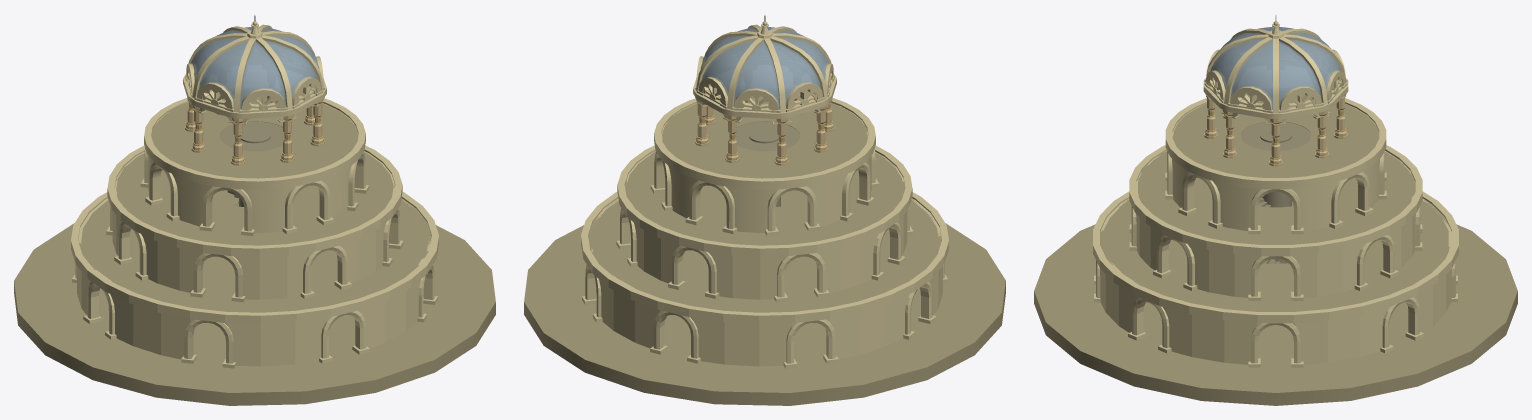
Rendered from Blockout_HubTemple_resize.fbx.
3 renders of one model, left to right at view 1: azimuth 30°, elevation 25°; view 2: azimuth 150°, elevation 25°; view 3: azimuth 270°, elevation 25°, orthographic.
Parts seen in each view (by area): view 1: F3, Ground, F1, F2, StairDisk; view 2: F3, Ground, F1, F2, StairDisk; view 3: F3, Ground, F1, F2, StairDisk.
Boxes of the visible parts, x1,y1,x2,y2 form: F3: (140, 15, 369, 236); Ground: (14, 223, 495, 405); F1: (71, 190, 438, 368); F2: (106, 145, 403, 302); StairDisk: (219, 121, 284, 151); F3: (650, 15, 879, 236); Ground: (524, 223, 1005, 405); F1: (581, 190, 948, 368); F2: (616, 145, 913, 302); StairDisk: (735, 121, 800, 151); F3: (1165, 15, 1386, 263); Ground: (1034, 224, 1517, 405); F1: (1093, 191, 1458, 367); F2: (1129, 145, 1422, 300); StairDisk: (1241, 122, 1310, 150).
Size of the model in its own units: 3400 by 2247 by 3400.
